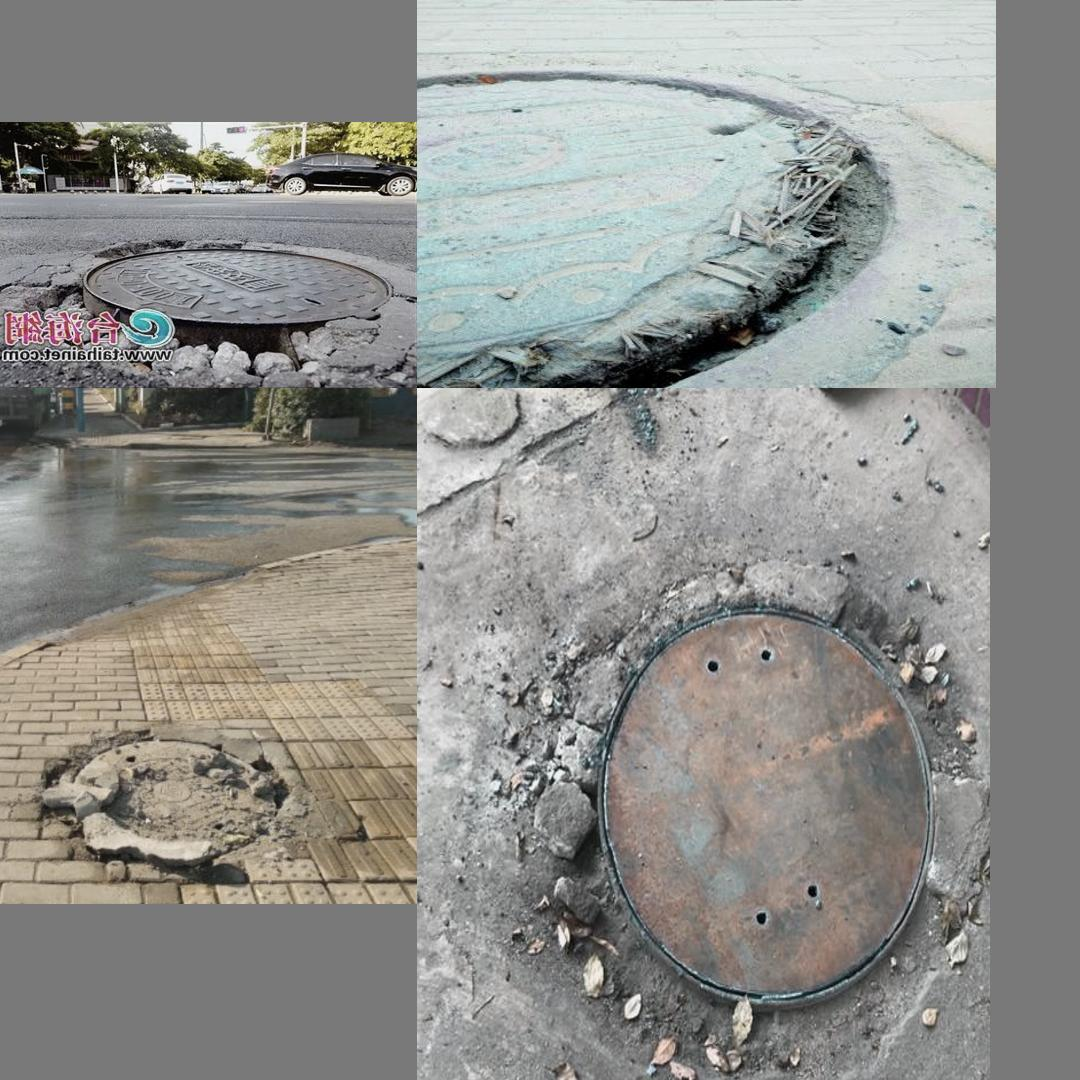circle: (485, 547, 973, 1080), (426, 53, 962, 377), (0, 238, 409, 373), (40, 714, 317, 872)
